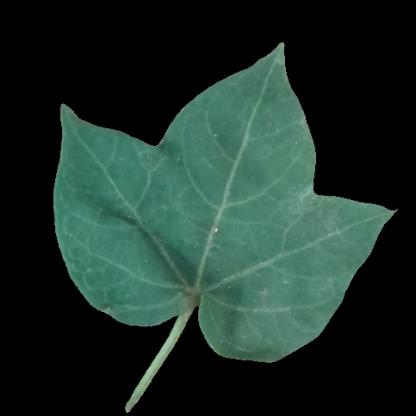healthy: (66, 142, 218, 264), (222, 220, 343, 295), (221, 95, 297, 198)
